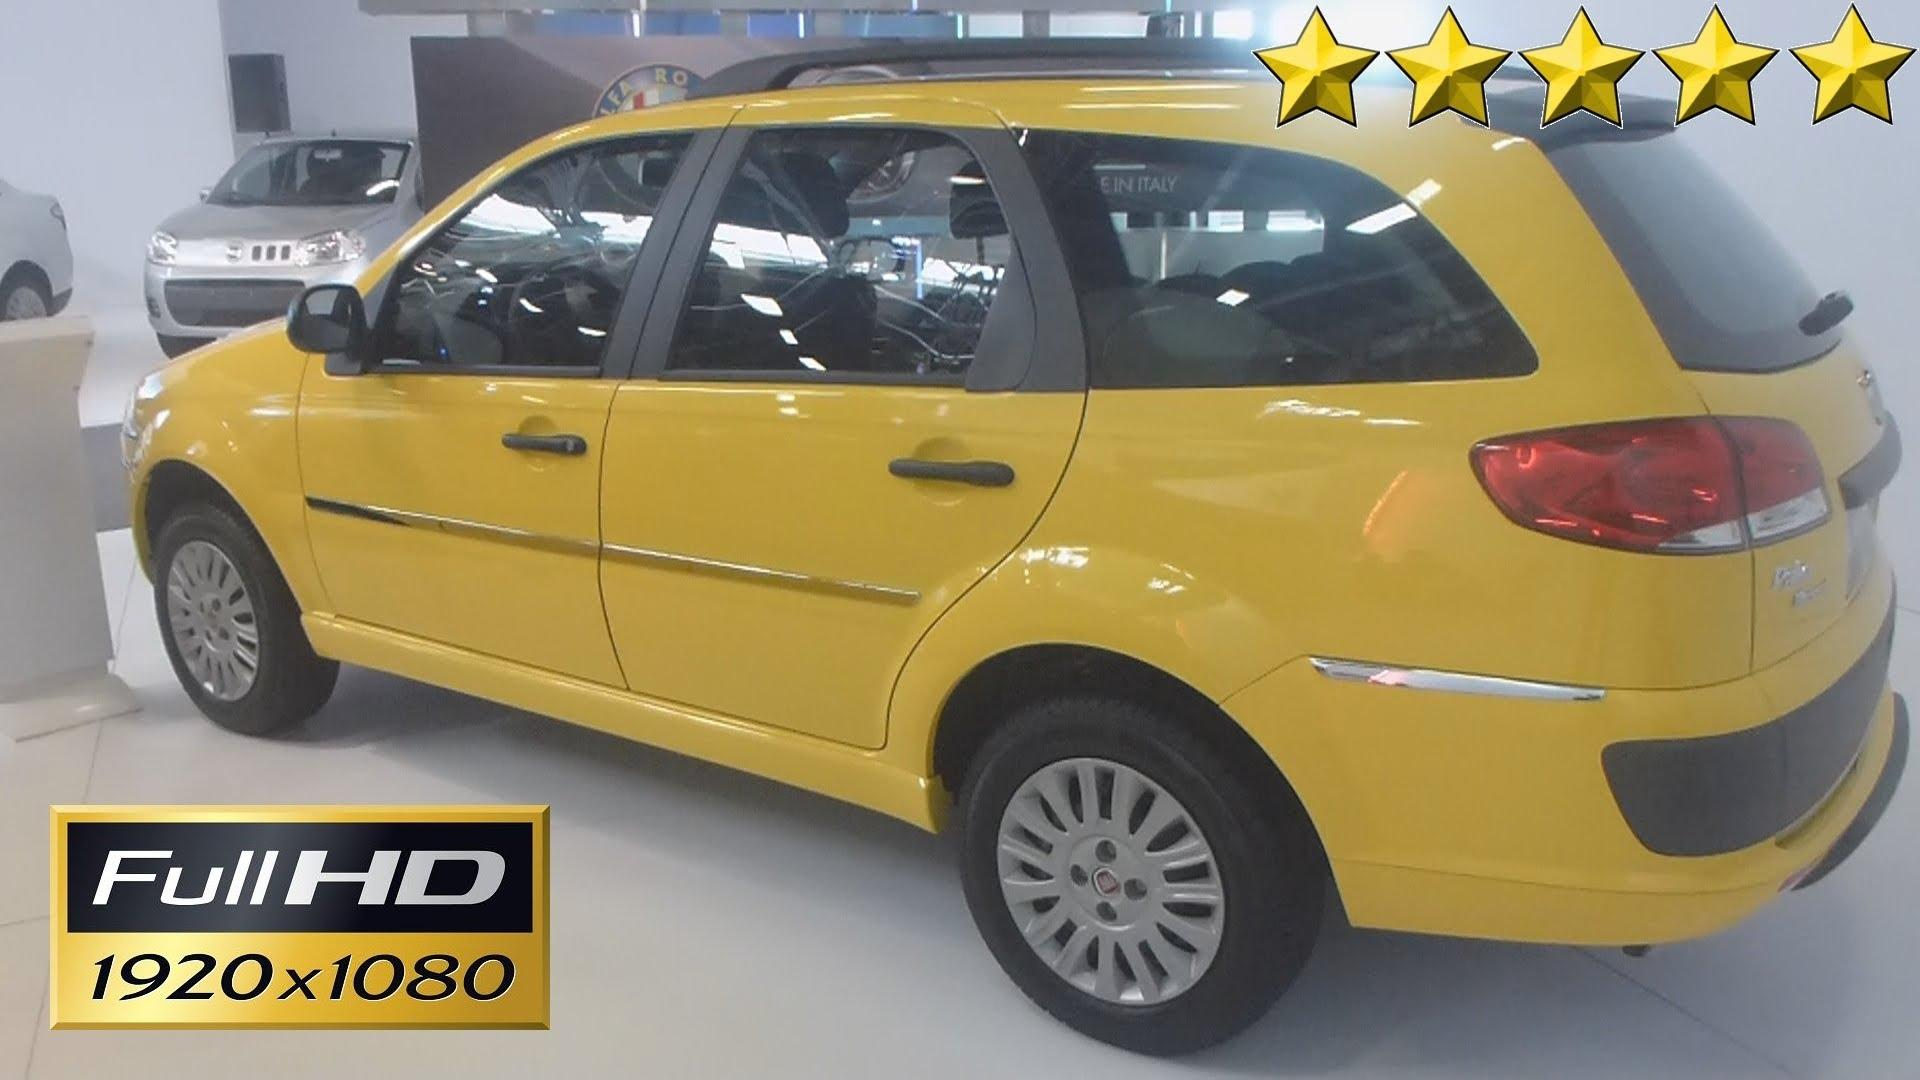taxi: (119, 53, 1904, 836)
